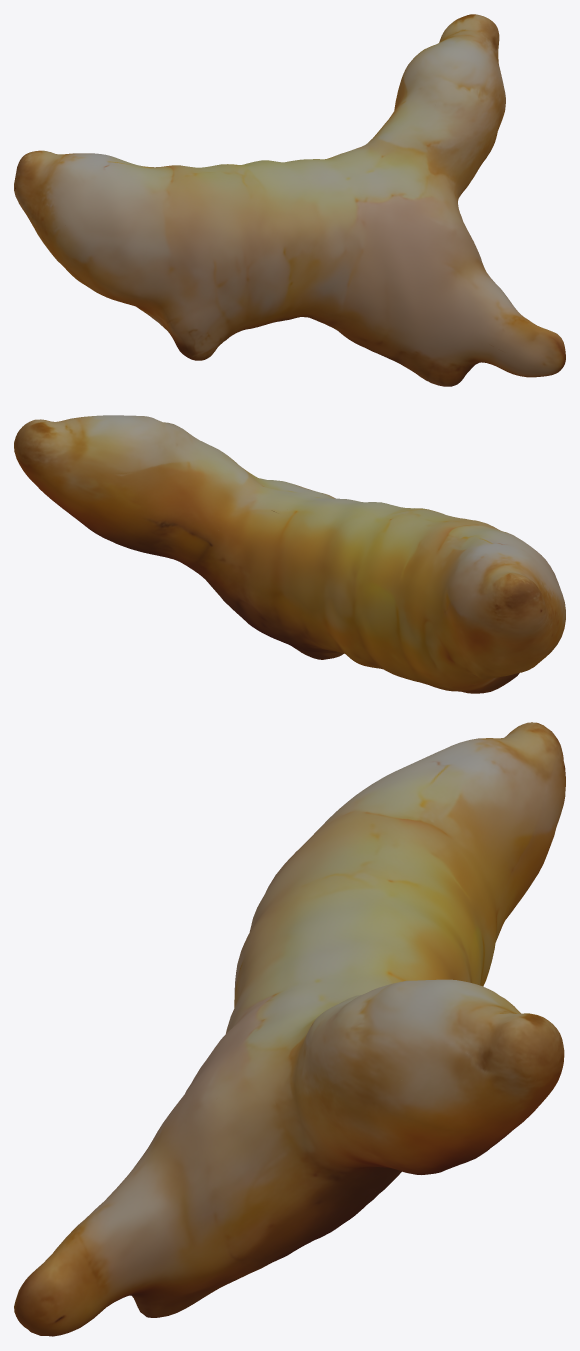
File: turmeric_bulb_compressed.glb
3 renders of one model, top to bottom at view 1: azimuth 30°, elevation 25°; view 2: azimuth 150°, elevation 25°; view 3: azimuth 270°, elevation 25°, orthographic. The views are drawn at different scales.
Parts seen in each view (by area): view 1: Object_2; view 2: Object_2; view 3: Object_2.
Part boxes in pixels (x1,y1,x2,y2): Object_2: (14, 14, 565, 386); Object_2: (14, 415, 565, 693); Object_2: (14, 722, 565, 1336).
Size of the model in its own units: 1.89 by 0.9456 by 1.16.
1 material, 1 textured.
